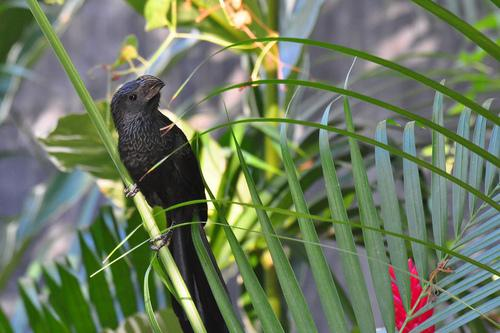004.Groove_billed_Ani: (106, 72, 237, 333)
